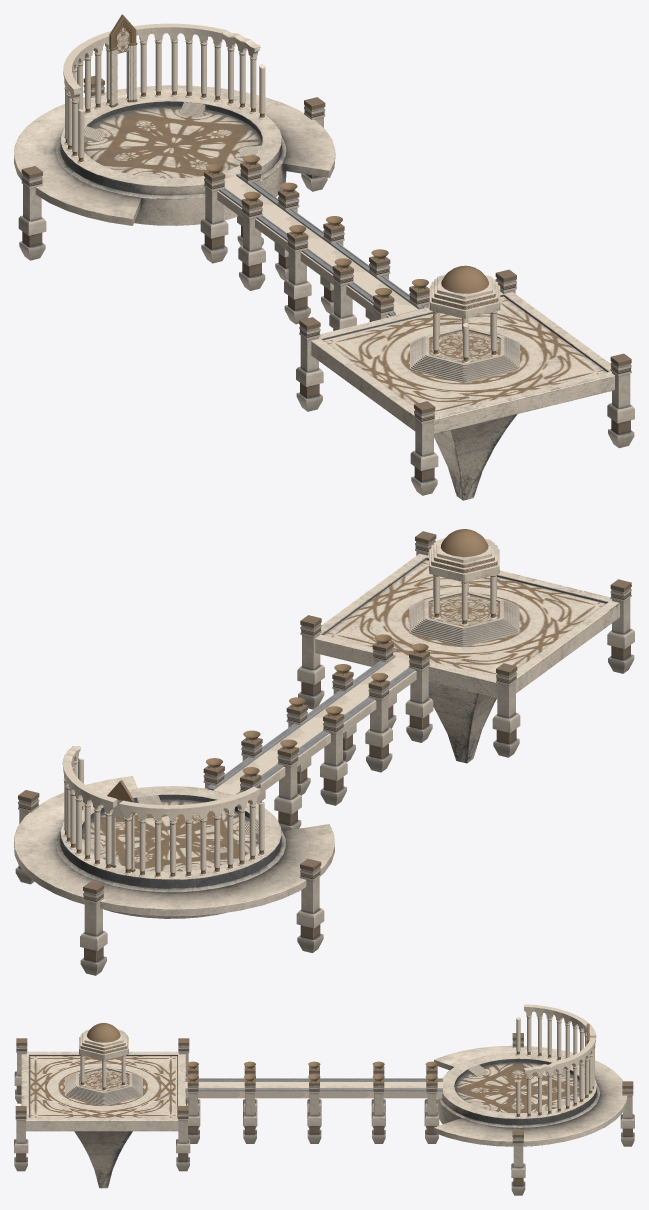
The model's file is Arena.fbx.
The picture shows the model from 3 angles, top to bottom: view 1: azimuth 30°, elevation 25°; view 2: azimuth 150°, elevation 25°; view 3: azimuth 270°, elevation 25°; orthographic projection. The views are drawn at different scales.
Parts seen in each view (by area): view 1: polySurface29.001; view 2: polySurface29.001; view 3: polySurface29.001.
Boxes of the visible parts, x1,y1,x2,y2 form: polySurface29.001: (14,14,634,500); polySurface29.001: (14,529,634,975); polySurface29.001: (14,1004,634,1195).
Size of the model in its own units: 1440 by 567 by 417.
20 materials, 20 textured.
